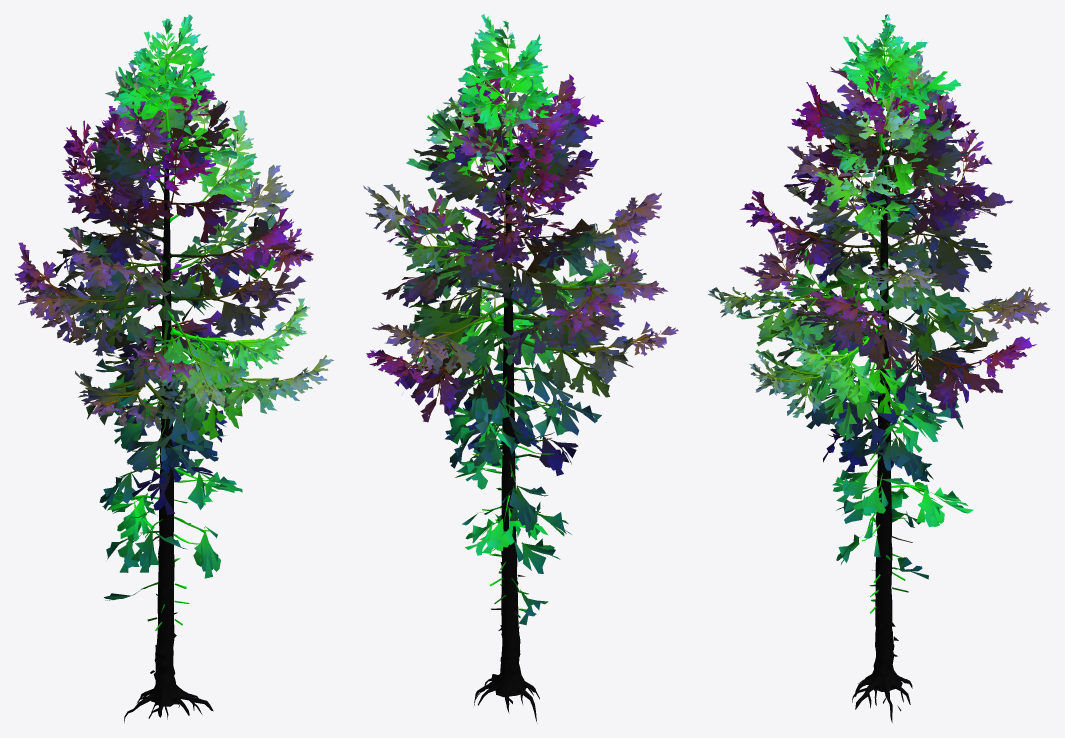
The model's file is SM_SilverFir_XL_01.fbx.
3 renders of one model, left to right at view 1: azimuth 30°, elevation 25°; view 2: azimuth 150°, elevation 25°; view 3: azimuth 270°, elevation 25°, orthographic.
Visible parts, largest first — view 1: SM_SilverFir_XL_01; view 2: SM_SilverFir_XL_01; view 3: SM_SilverFir_XL_01.
Boxes of the visible parts, left/top/right/bottom form: SM_SilverFir_XL_01: left=14, top=14, right=333, bottom=722; SM_SilverFir_XL_01: left=363, top=14, right=678, bottom=723; SM_SilverFir_XL_01: left=707, top=14, right=1050, bottom=722.
Bounding box in the file's own units: 2115 × 2270 × 5071.
